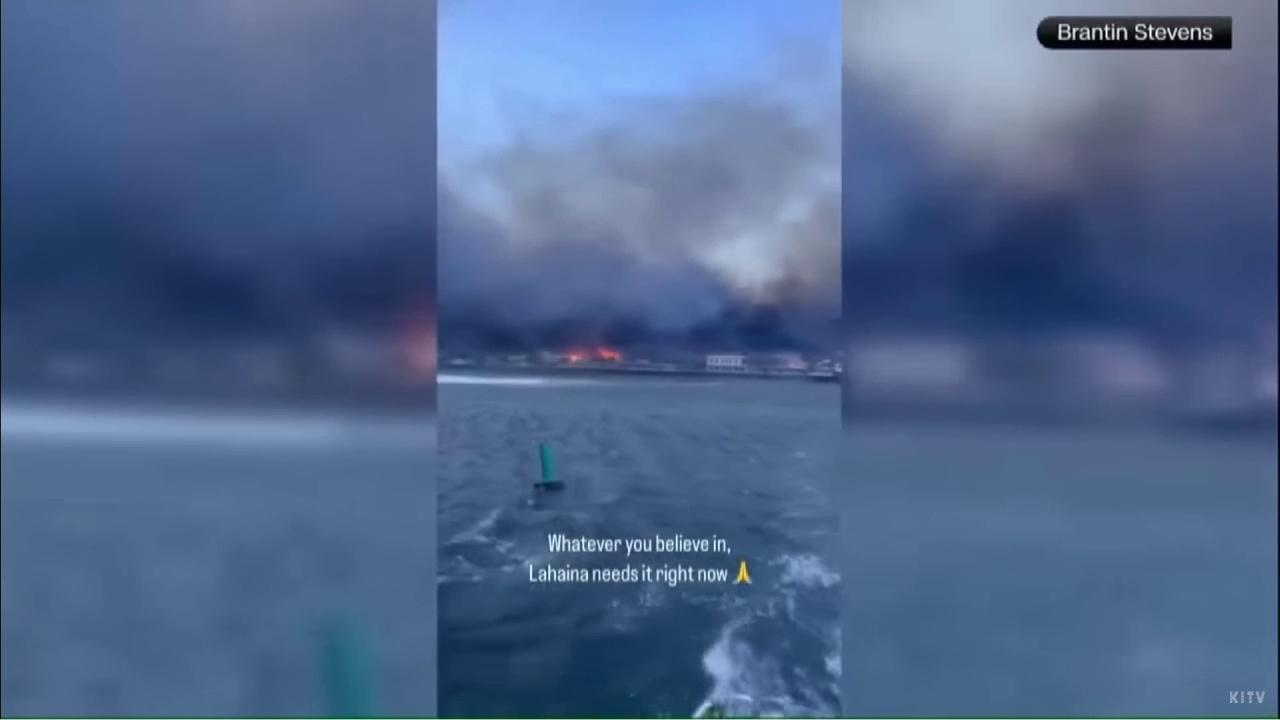fire: (565, 345, 622, 364)
smoke: (437, 35, 842, 358)
